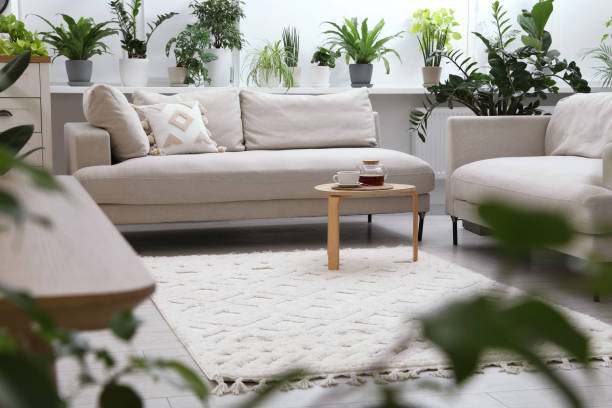chair: (444, 90, 612, 303)
large plant: (439, 2, 593, 114)
small plant: (41, 11, 115, 86), (331, 16, 399, 88), (110, 7, 169, 86), (198, 6, 246, 85), (409, 7, 455, 85), (166, 27, 200, 86), (250, 45, 286, 89), (280, 26, 302, 86), (310, 44, 334, 88)
sofa: (63, 80, 435, 243)
table: (311, 168, 423, 271)
